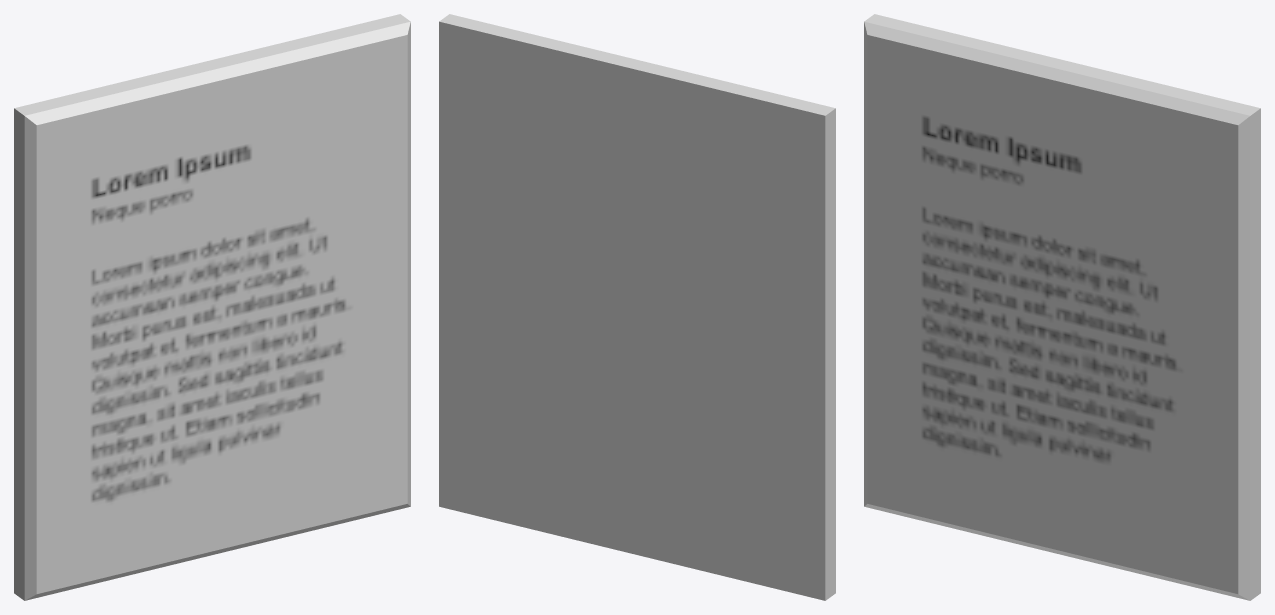
Rendered from description-plate.glb.
The picture shows the model from 3 angles, left to right: view 1: azimuth 30°, elevation 25°; view 2: azimuth 150°, elevation 25°; view 3: azimuth 330°, elevation 25°; orthographic projection.
Parts seen in each view (by area): view 1: Cube; view 2: Cube; view 3: Cube.
Boxes of the visible parts, <box> form: Cube: <box>14,14,410,600</box>; Cube: <box>439,14,835,600</box>; Cube: <box>864,14,1260,600</box>.
Size of the model in its own units: 0.15 by 0.18 by 0.01.
Materials: 1 (1 with a texture image).
